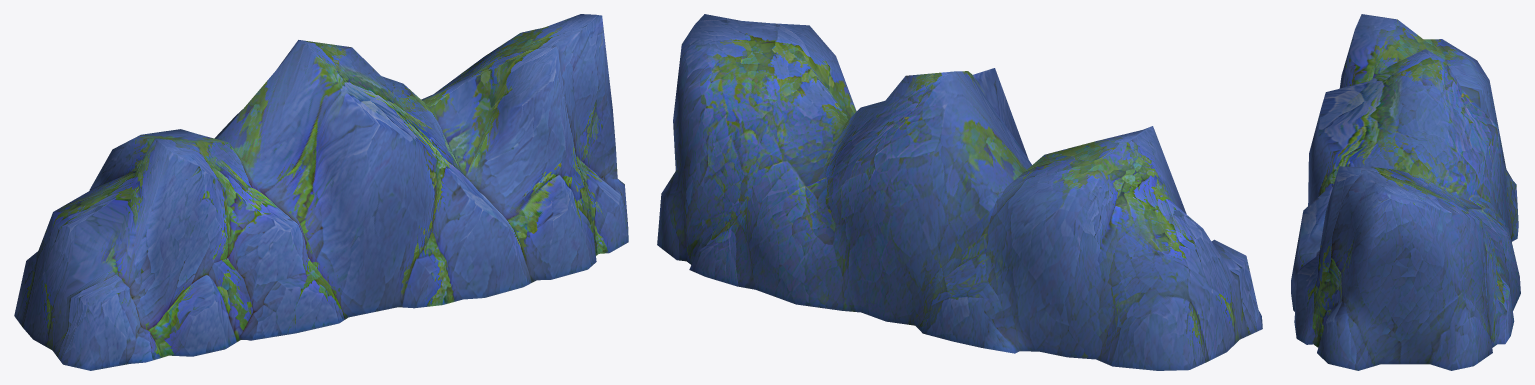
Rendered from rock_wall_d.glb.
3 views of the same model, side by side, from view 1: azimuth 30°, elevation 25°; view 2: azimuth 150°, elevation 25°; view 3: azimuth 270°, elevation 25° (orthographic). The views are drawn at different scales.
Visible parts, largest first — view 1: tripo_node_b992fb79-174a-4924-95c2-07c922229d53; view 2: tripo_node_b992fb79-174a-4924-95c2-07c922229d53; view 3: tripo_node_b992fb79-174a-4924-95c2-07c922229d53.
Part boxes in pixels (box(x1,y1,x2,y2)): tripo_node_b992fb79-174a-4924-95c2-07c922229d53: box(14, 14, 628, 370); tripo_node_b992fb79-174a-4924-95c2-07c922229d53: box(657, 14, 1262, 370); tripo_node_b992fb79-174a-4924-95c2-07c922229d53: box(1291, 14, 1520, 370).
Bounding box in the file's own units: 0.998 × 0.3809 × 0.4004.
Materials: 1 (1 with a texture image).
